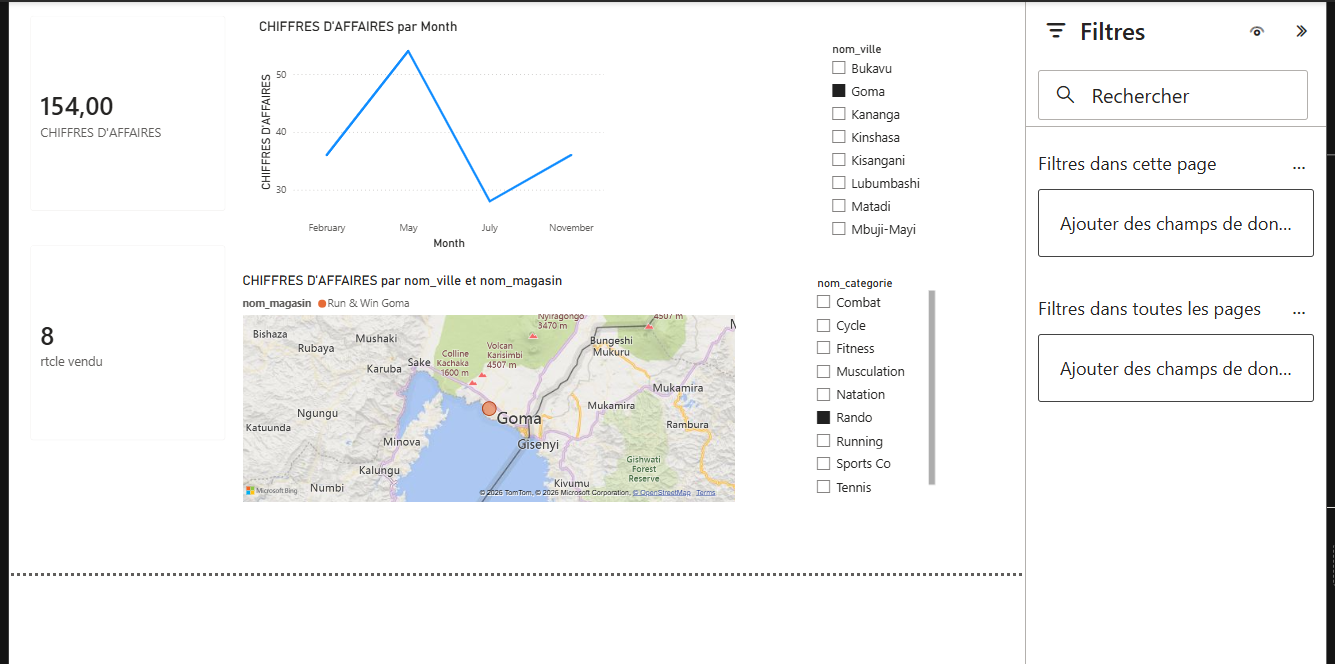

The page's visual inventory and layout, read from the dashboard file:
{"tool":"powerbi","page":{"name":"Page 1","canvas":[1280,720],"ordinal":0},"visuals":[{"type":"cardVisual","fields":{"Data":["public categories.CHIFFRES D'AFFAIRES","public categories.CHIFFRES D'AFFAIRES"]},"box":[10,0,280,280],"z":0},{"type":"cardVisual","fields":{"Data":["public categories.rtcle vendu"]},"box":[10,290,280,280],"z":1},{"type":"lineChart","fields":{"Y":["public categories.CHIFFRES D'AFFAIRES"],"Category":["public ventes.date_vente.Variation.Date Hierarchy.Month"]},"box":[309.9,20.8,444.1,294.8],"z":2},{"type":"map","fields":{"Series":["public magasins.nom_magasin"],"Size":["public categories.CHIFFRES D'AFFAIRES"],"Category":["public villes.nom_ville"]},"box":[289.1,340.2,631.2,294.8],"z":3},{"type":"slicer","fields":{"Values":["public categories.nom_categorie"]},"box":[1005.4,340.2,166.3,294.8],"z":5},{"type":"slicer","fields":{"Values":["public villes.nom_ville"]},"box":[1024.3,45.4,166.3,294.8],"z":6}]}

Visuals, with their boxes on the page's 1280x720 design canvas (x1, y1, x2, y2). These are canvas units, not pixel positions in the 1335x664 screenshot, which may show the page scaled, cropped or inside an application window:
cardVisual - public categories.CHIFFRES D'AFFAIRES x public categories.CHIFFRES D'AFFAIRES: <bbox>10, 0, 290, 280</bbox>
cardVisual - public categories.rtcle vendu: <bbox>10, 290, 290, 570</bbox>
lineChart - public categories.CHIFFRES D'AFFAIRES x public ventes.date_vente.Variation.Date Hierarchy.Month: <bbox>310, 21, 754, 316</bbox>
map - public magasins.nom_magasin x public categories.CHIFFRES D'AFFAIRES: <bbox>289, 340, 920, 635</bbox>
slicer - public categories.nom_categorie: <bbox>1005, 340, 1172, 635</bbox>
slicer - public villes.nom_ville: <bbox>1024, 45, 1191, 340</bbox>
